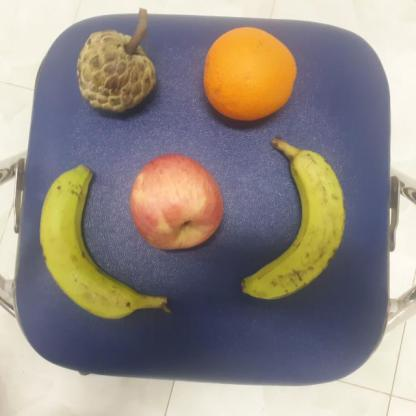annona: (75, 28, 160, 112)
apple: (129, 152, 225, 254)
banana: (37, 163, 170, 319), (242, 134, 346, 305)
orange: (202, 25, 300, 126)
